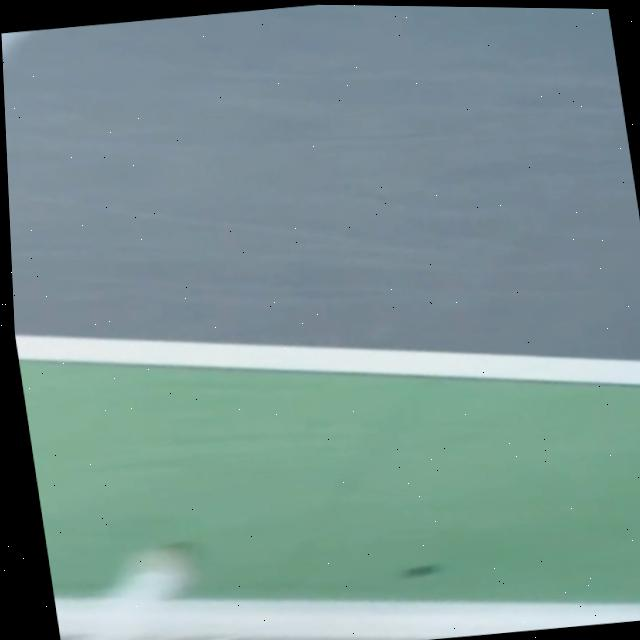right: (15, 333, 640, 382)
